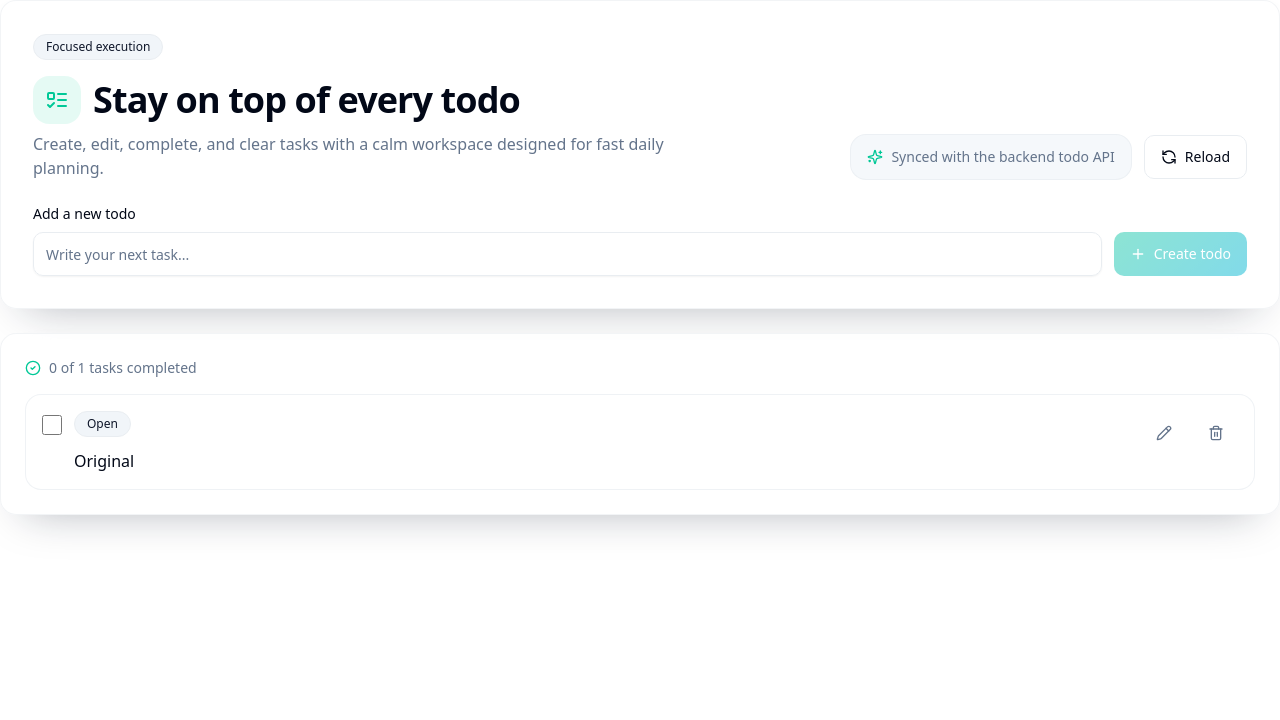
TodoPage › edits an existing todo and sends the updated title to the API
Click the button named "edit original".
click(1164, 433)  # box [1142,411,1186,455]
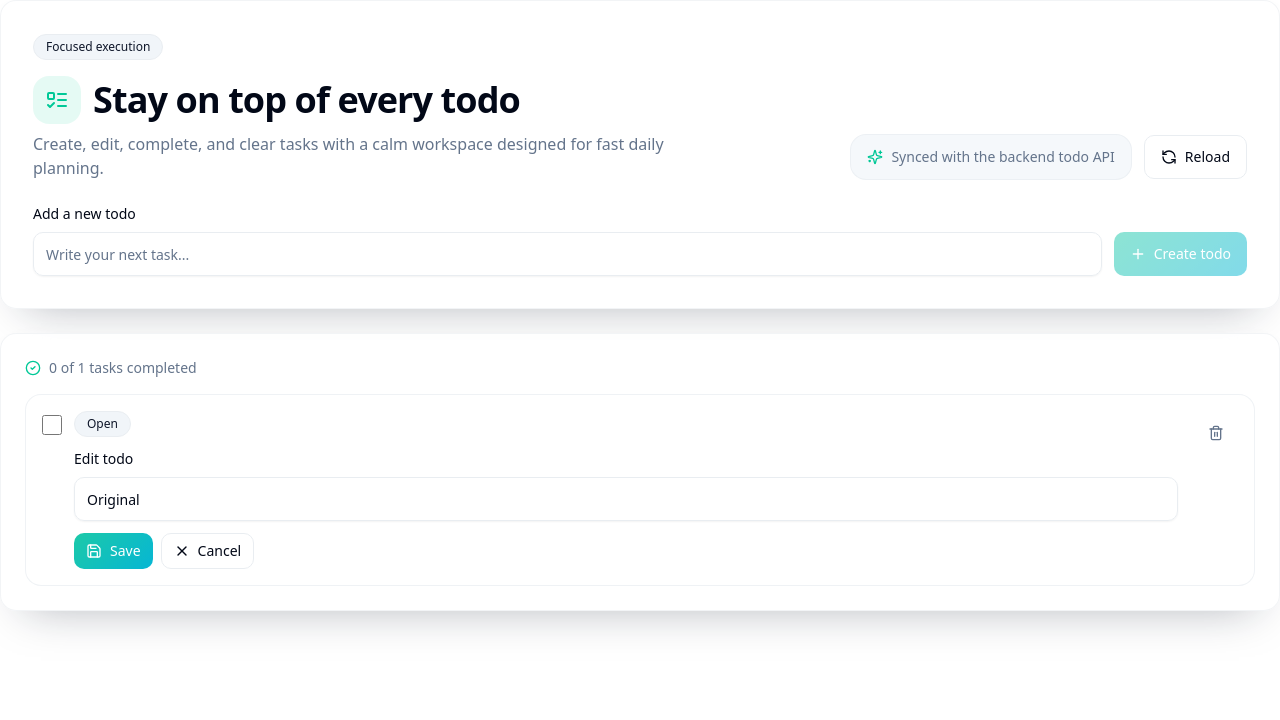
Replace the text in the field showing "Original" with "Updated" at [626, 499], box [74,477,1178,521]
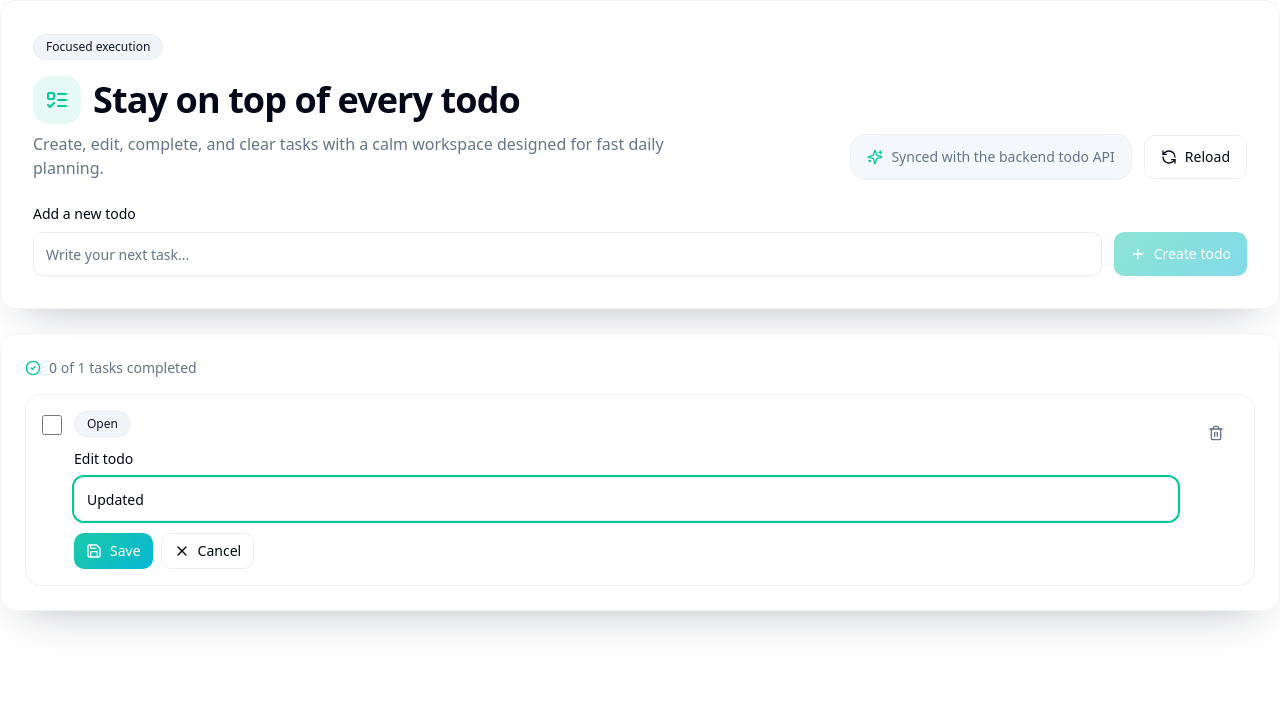
Click the button "Save".
click(113, 551)  # box [74,533,153,569]
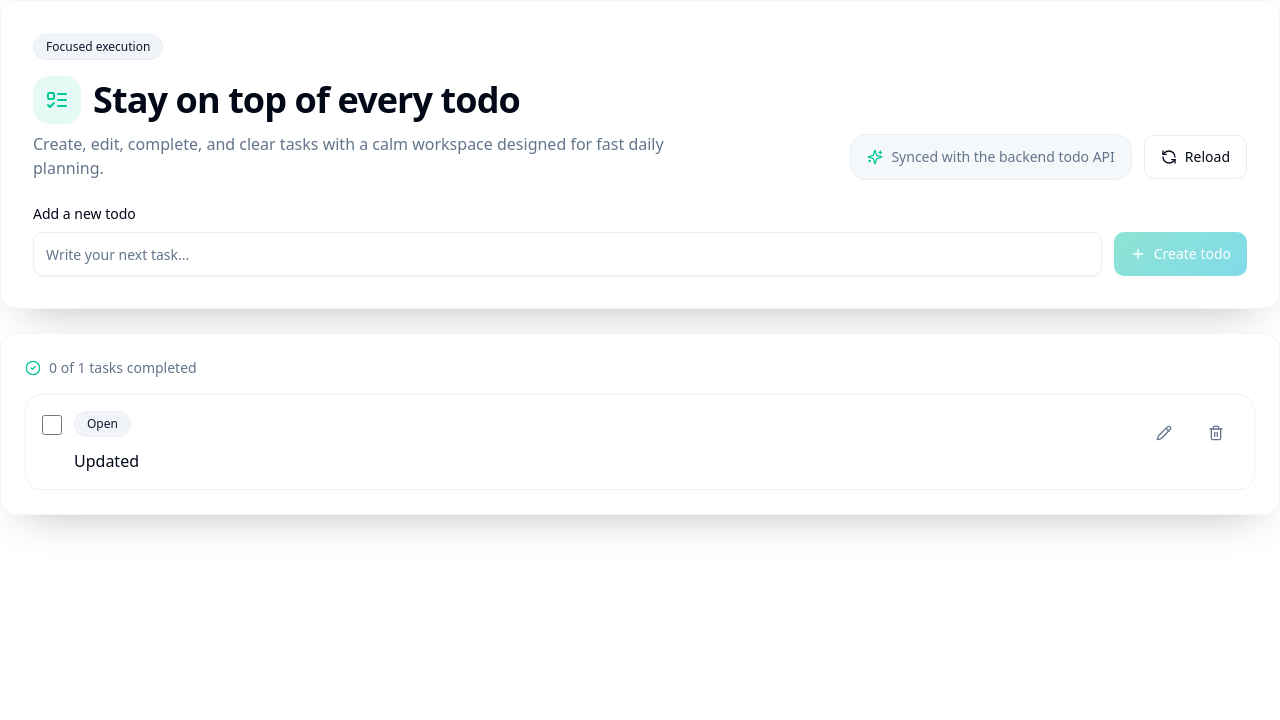
Result: the text "Updated" is shown at [74,450,139,472]
